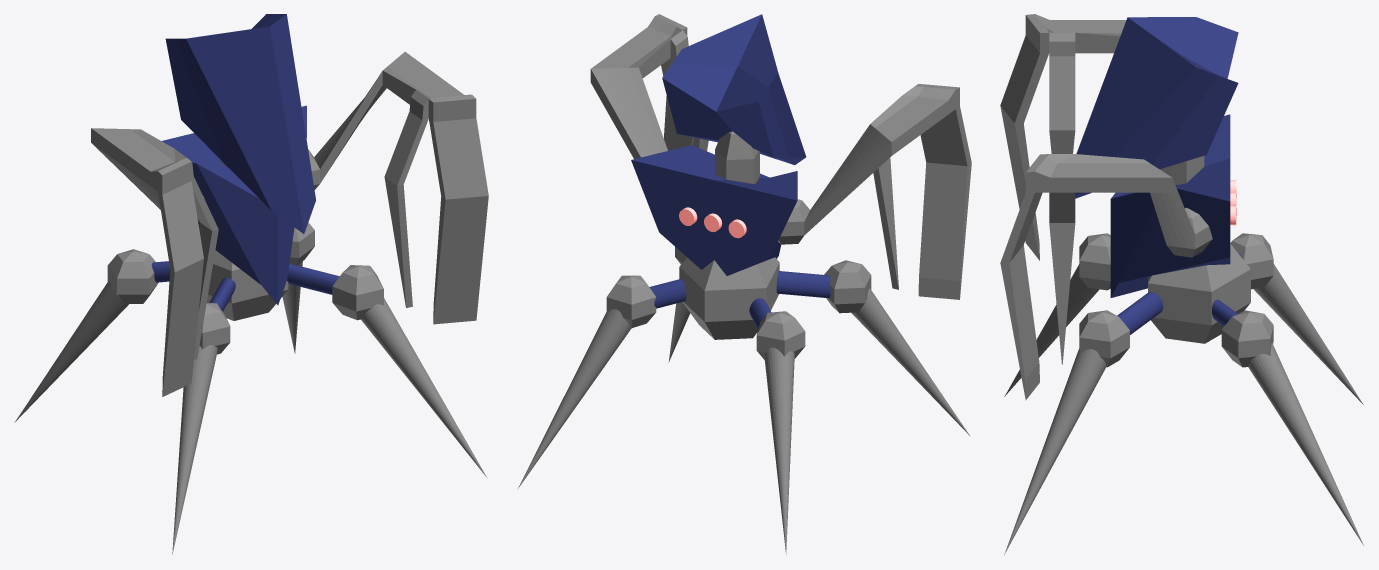
File: monst_MED.fbx
3 renders of one model, left to right at view 1: azimuth 30°, elevation 25°; view 2: azimuth 150°, elevation 25°; view 3: azimuth 270°, elevation 25°, orthographic. The views are drawn at different scales.
Visible parts, largest first — view 1: Sphere.002, Cube.001, Cone, Cube, Cone.001, Sphere, Cylinder; view 2: Sphere.002, Cube.001, Cube, Cone.001, Sphere, Cone, Sphere.001, Cylinder, Cylinder.001, Cylinder.002; view 3: Sphere.002, Cube.001, Cone.001, Cube, Cone, Sphere, Cylinder, Sphere.001.
Part boxes in pixels (box(x1,y1,x2,y2)): Sphere.002: box(91, 51, 488, 396); Cube.001: box(165, 14, 315, 233); Cone: box(172, 265, 486, 554); Cube: box(162, 105, 306, 305); Cone.001: box(14, 222, 314, 422); Sphere: box(206, 250, 288, 320); Cylinder: box(209, 263, 339, 311); Sphere.002: box(590, 14, 971, 299); Cube.001: box(662, 14, 806, 165); Cube: box(631, 145, 797, 275); Cone.001: box(517, 275, 805, 554); Sphere: box(679, 257, 779, 339); Cone: box(668, 247, 970, 436); Sphere.001: box(715, 131, 759, 183); Cylinder: box(776, 271, 830, 298); Cylinder.001: box(649, 279, 770, 328); Cylinder.002: box(679, 207, 746, 238); Sphere.002: box(1000, 14, 1212, 400); Cube.001: box(1075, 17, 1238, 198); Cone.001: box(1221, 233, 1363, 545); Cube: box(1110, 114, 1230, 297); Cone: box(1004, 233, 1129, 554); Sphere: box(1148, 244, 1250, 343); Cylinder: box(1117, 292, 1163, 334); Sphere.001: box(1160, 156, 1204, 185).
Bounding box in the file's own units: 626 × 848 × 609.
